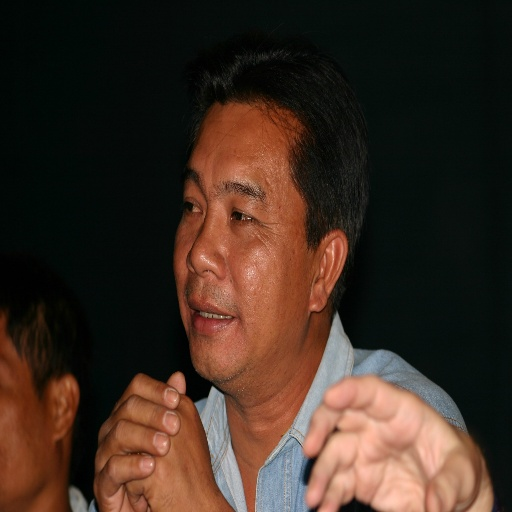hand: (280, 360, 484, 512), (91, 372, 188, 511), (122, 391, 220, 511)
